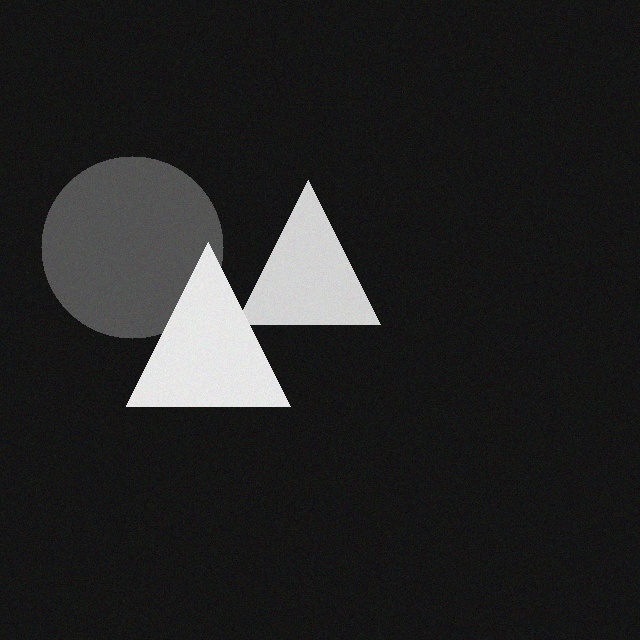circle: (34, 171, 216, 353)
triangle: (119, 257, 283, 421), (229, 195, 373, 339)
